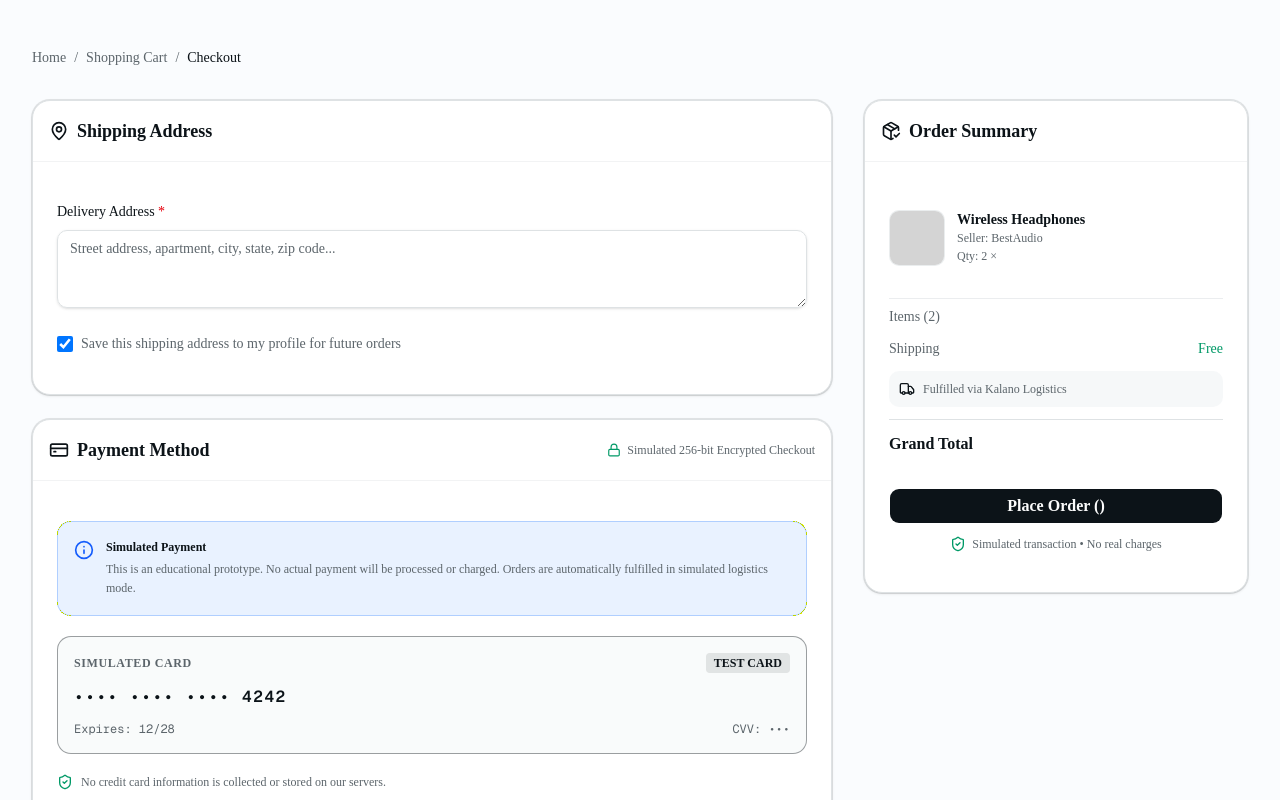
CheckoutPage › shows validation error if submitting blank or short address
What coordinates should you click on to do the following:
click the button "Place Order ()"
I would click on:
 (1056, 506)
Its box is [889, 488, 1223, 524].
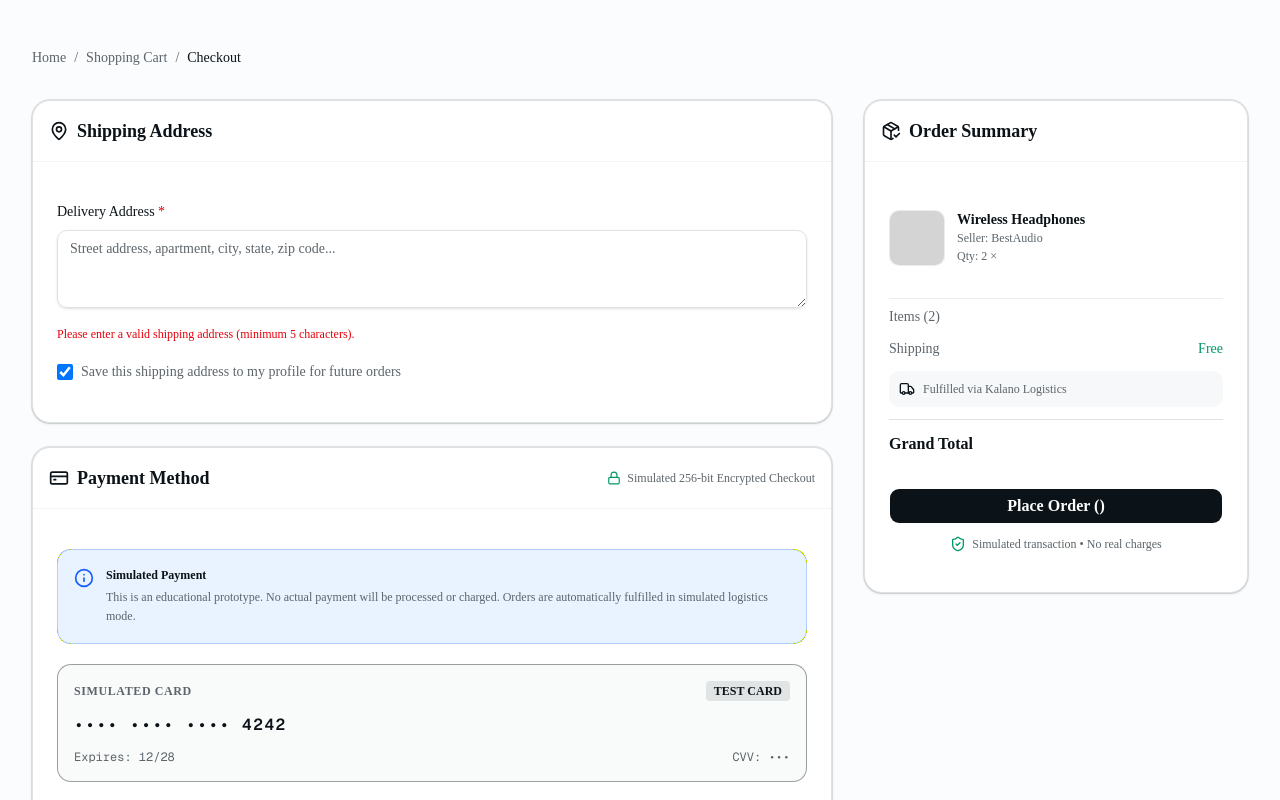
Expected: the text "Please enter a valid shipping address (minimum 5 characters)." is shown, [57, 327, 355, 341]
